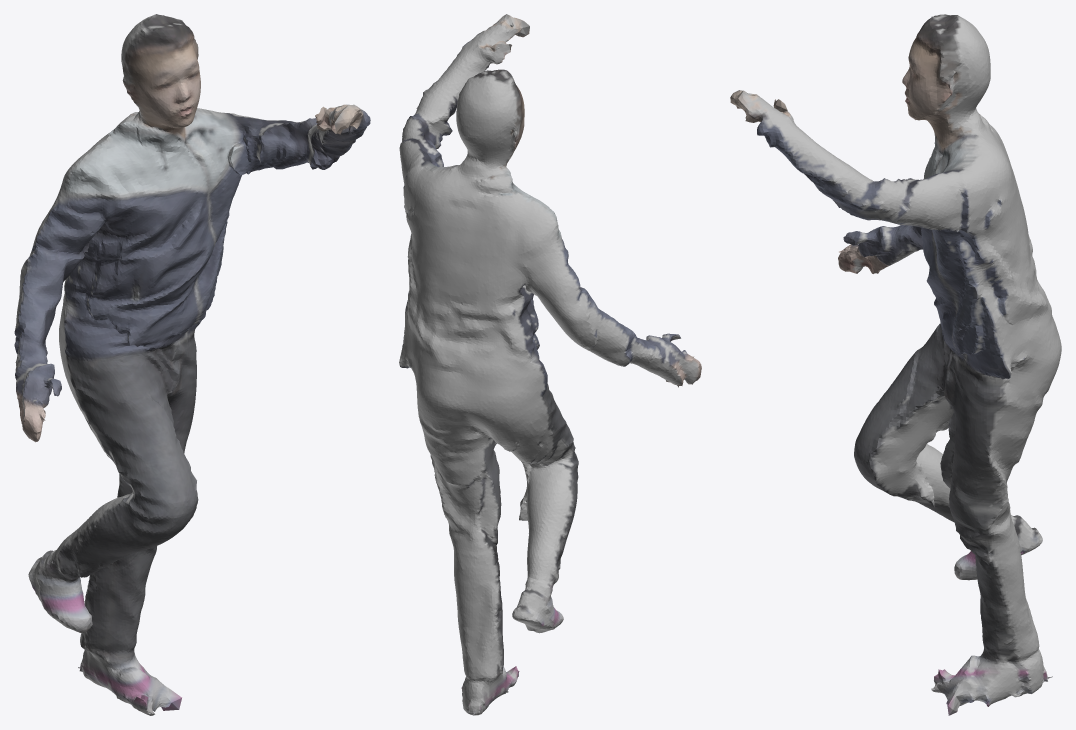
File: 0001_view_elev+00_04_textured.glb
The picture shows the model from 3 angles, left to right: view 1: azimuth 30°, elevation 25°; view 2: azimuth 150°, elevation 25°; view 3: azimuth 270°, elevation 25°; orthographic projection. The views are drawn at different scales.
Visible parts, largest first — view 1: 0001_view_elev+00_04_merged.obj; view 2: 0001_view_elev+00_04_merged.obj; view 3: 0001_view_elev+00_04_merged.obj.
Boxes of the visible parts, <box> form: 0001_view_elev+00_04_merged.obj: <box>14,14,370,715</box>; 0001_view_elev+00_04_merged.obj: <box>399,14,701,715</box>; 0001_view_elev+00_04_merged.obj: <box>730,14,1061,715</box>.
Bounding box in the file's own units: 0.8635 × 1.78 × 0.7738.
